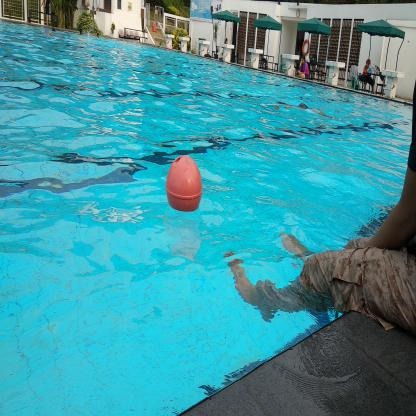red_buoy: (164, 149, 206, 217)
